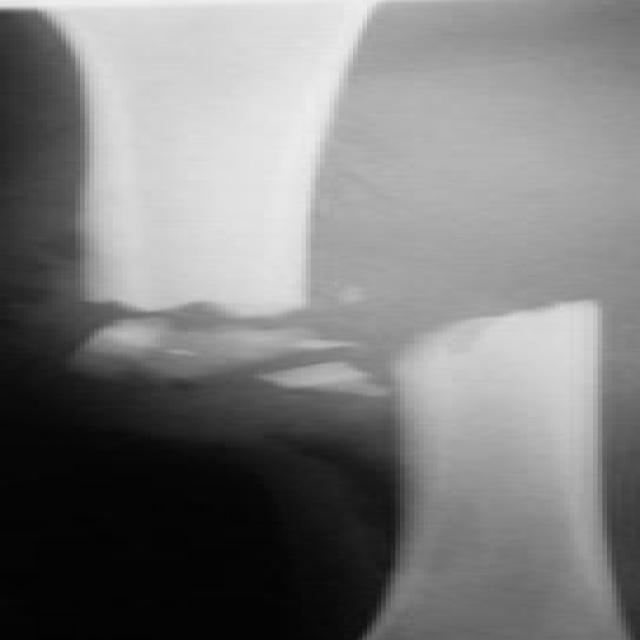Broken: (50, 30, 367, 327), (366, 309, 634, 637)
